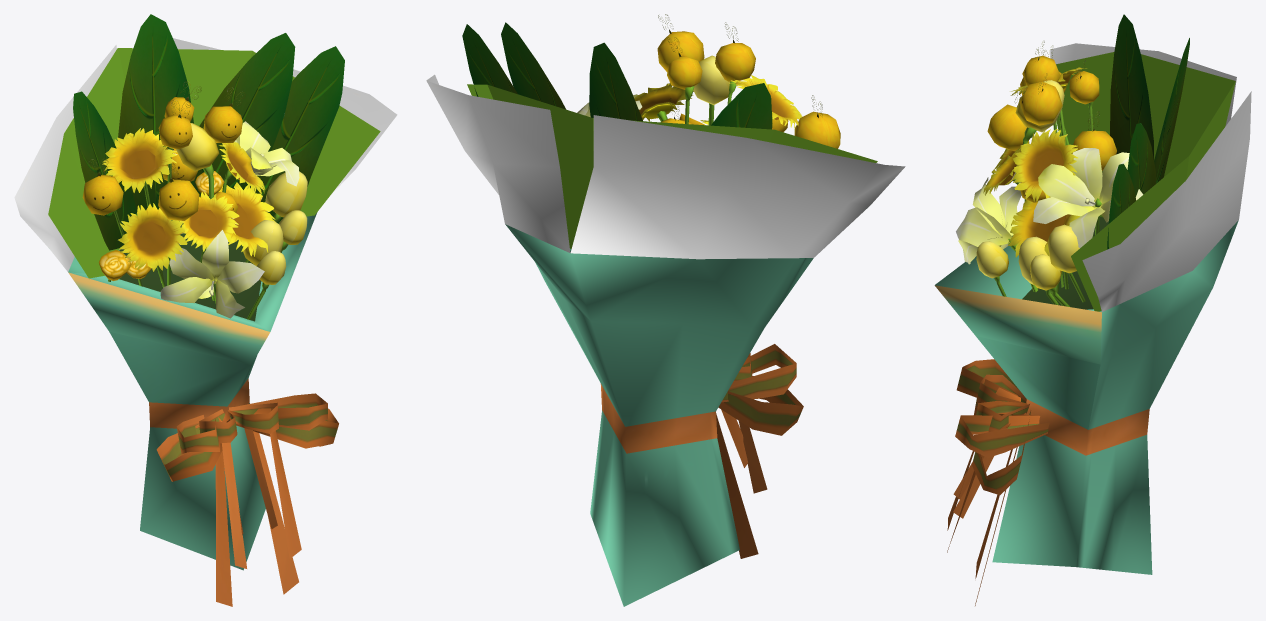
File: Flower08.fbx
The picture shows the model from 3 angles, left to right: view 1: azimuth 30°, elevation 25°; view 2: azimuth 150°, elevation 25°; view 3: azimuth 270°, elevation 25°; orthographic projection. The views are drawn at different scales.
Parts seen in each view (by area): view 1: Flower08m; view 2: Flower08m; view 3: Flower08m.
Part boxes in pixels (x1,y1,x2,y2): Flower08m: [14, 14, 397, 606]; Flower08m: [426, 14, 905, 606]; Flower08m: [934, 14, 1251, 605].
Bounding box in the file's own units: 4.58 × 5.75 × 2.99.
1 material, 1 textured.
